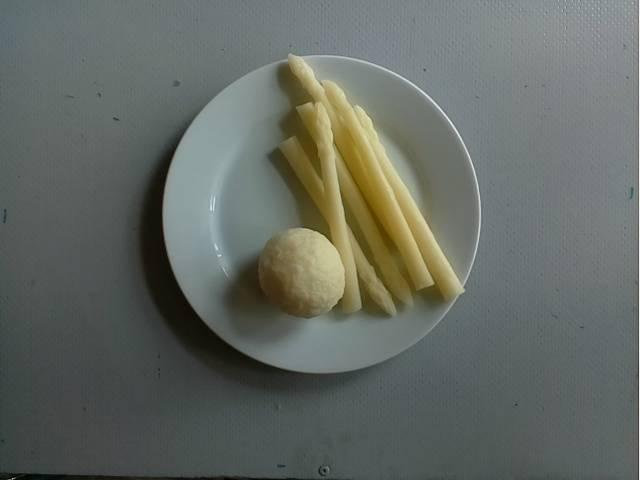Asparagus + dumpling: (261, 52, 468, 318)
